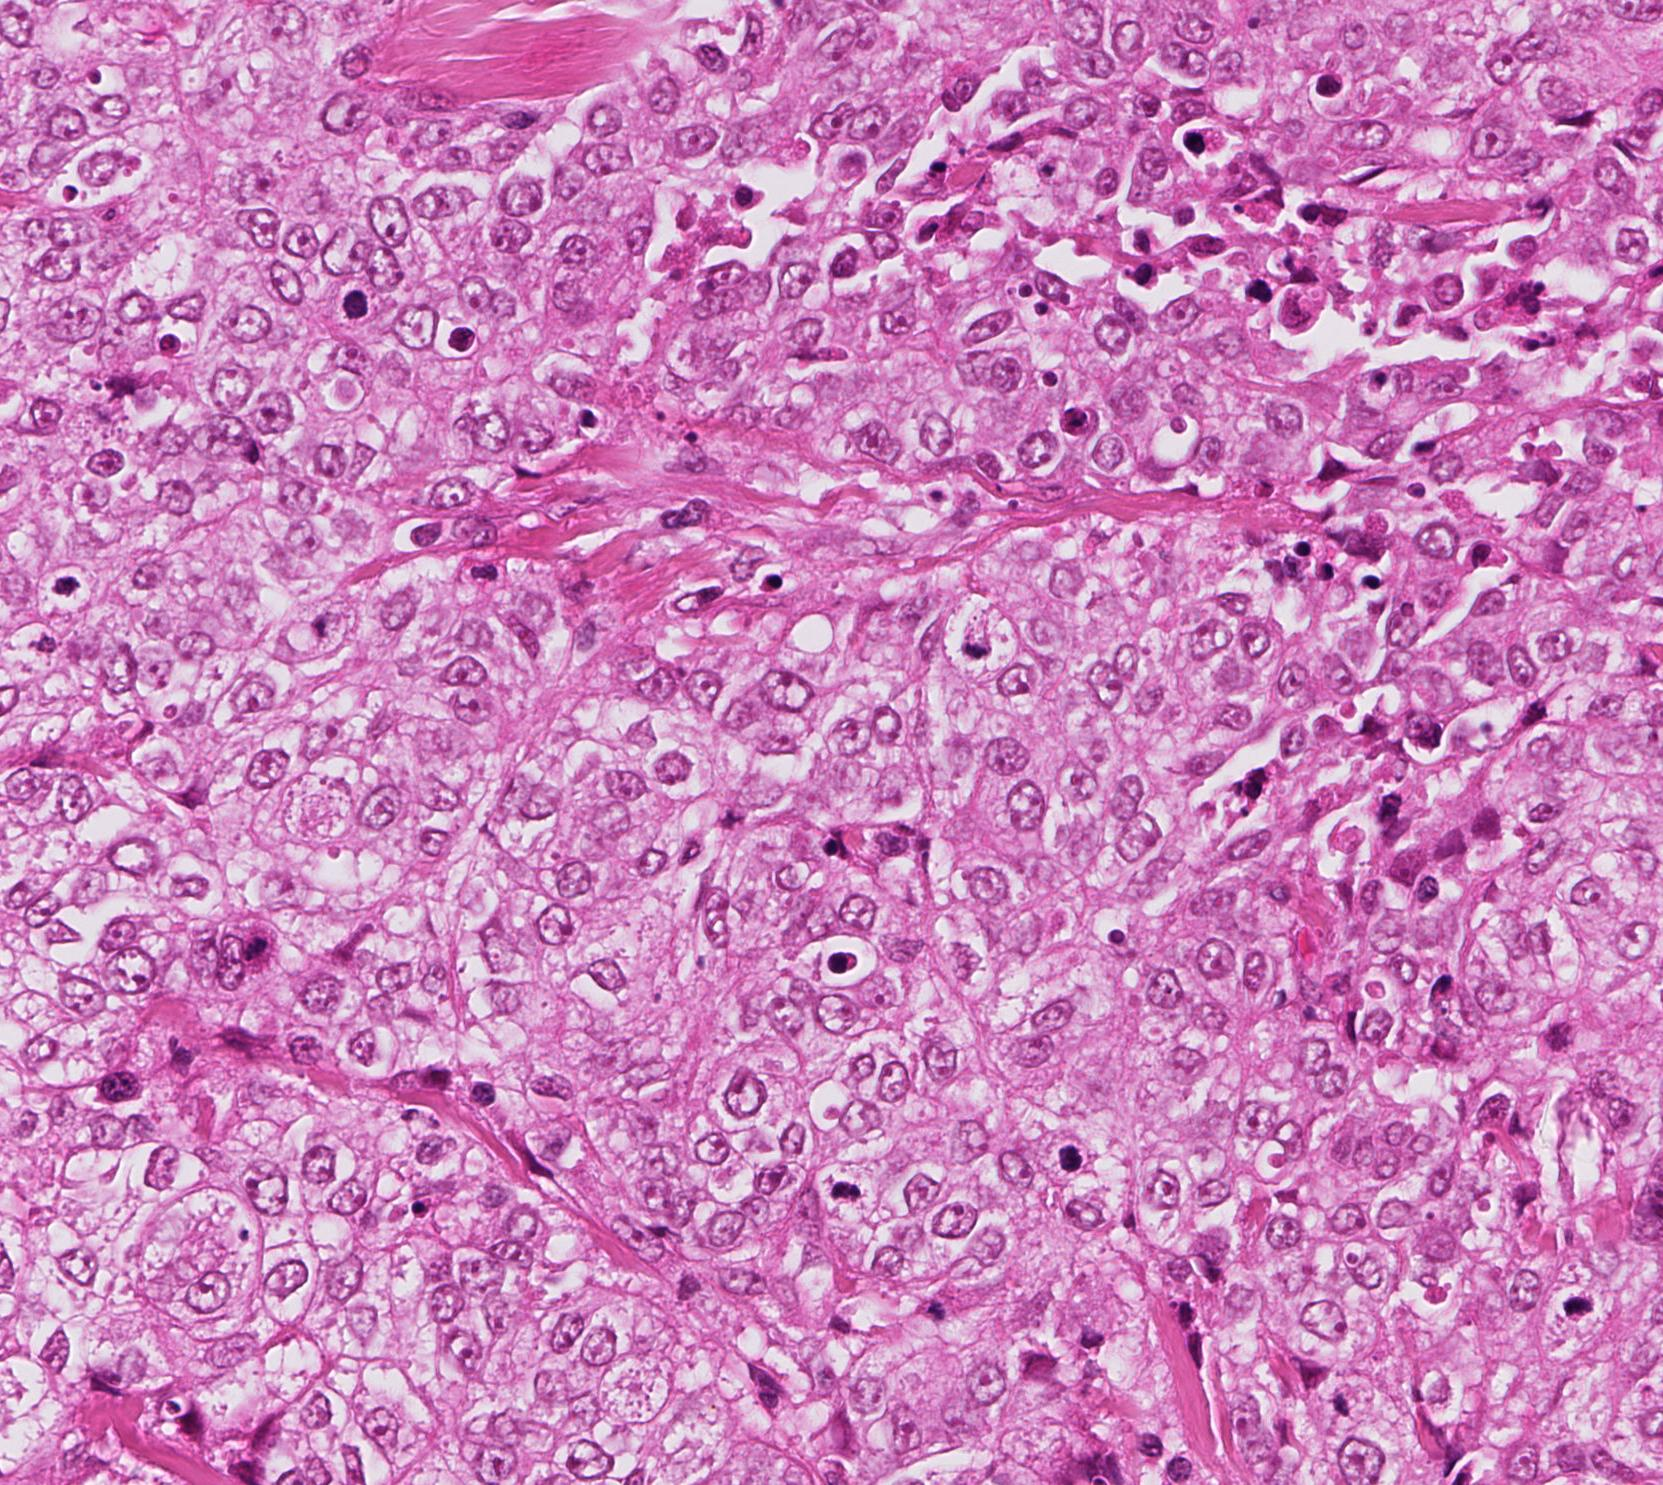mitosis: (1039, 1127, 1100, 1187), (820, 1158, 880, 1218), (315, 262, 376, 323), (32, 555, 90, 615)
